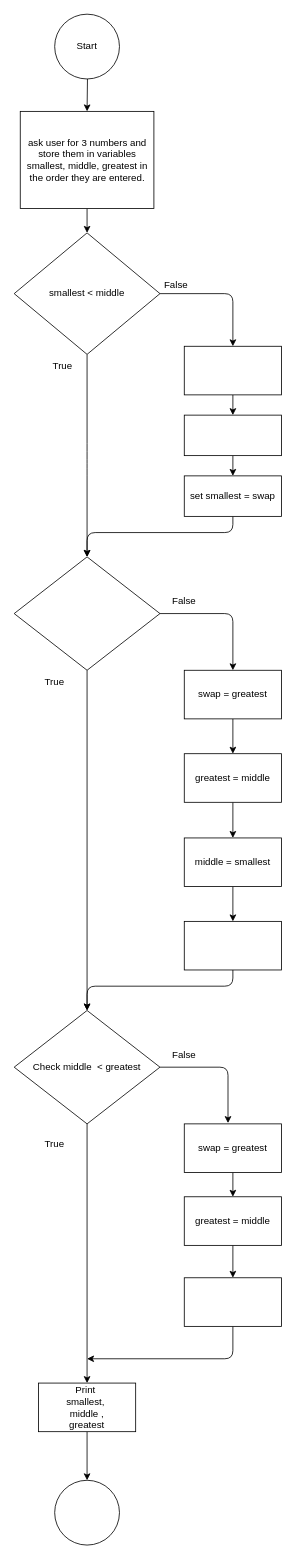
This 296x1559 diagram has some shape labels left out. The box of each missing label's shape, as (x1, y1, x2, y2) in pixels:
end: (54, 1479, 119, 1545)
middle = swap: (183, 1277, 281, 1326)
set middle = smallest: (183, 414, 281, 456)
set swap = middle: (183, 345, 281, 395)
smallest < greatest: (13, 556, 160, 670)
smallest = swap: (183, 921, 281, 970)
